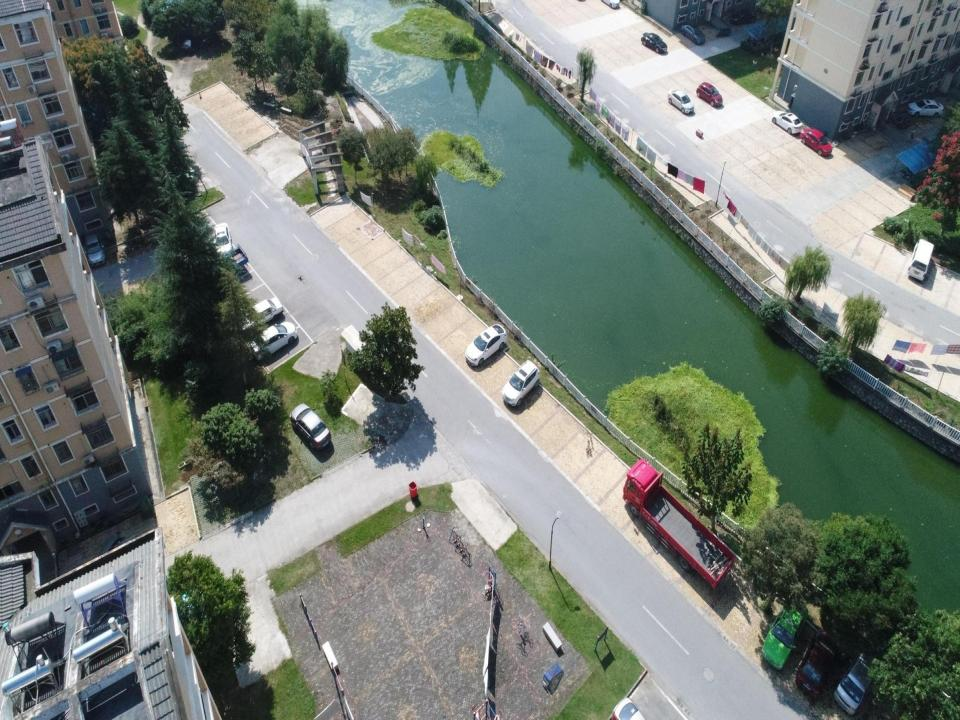car: (762, 594, 808, 670), (796, 631, 838, 699), (834, 650, 878, 714), (290, 399, 331, 450), (248, 322, 298, 360), (466, 322, 507, 367), (503, 360, 540, 407), (240, 297, 283, 331), (801, 130, 832, 156), (180, 30, 214, 52), (84, 233, 106, 267), (696, 81, 724, 107), (906, 99, 944, 118), (772, 111, 802, 134), (668, 88, 694, 114), (213, 222, 232, 256), (641, 31, 667, 54), (681, 22, 705, 45), (730, 8, 757, 24)
truck: (622, 459, 736, 589), (210, 244, 247, 278)
van: (908, 240, 934, 282)
